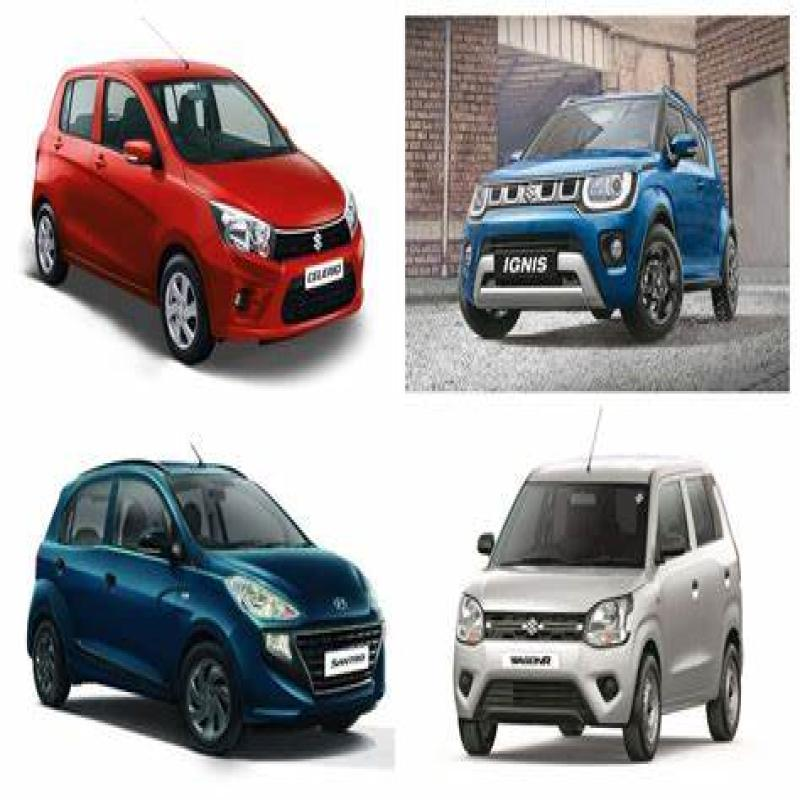car: (36, 450, 386, 750), (460, 454, 768, 772), (35, 50, 382, 330), (486, 70, 683, 311)
